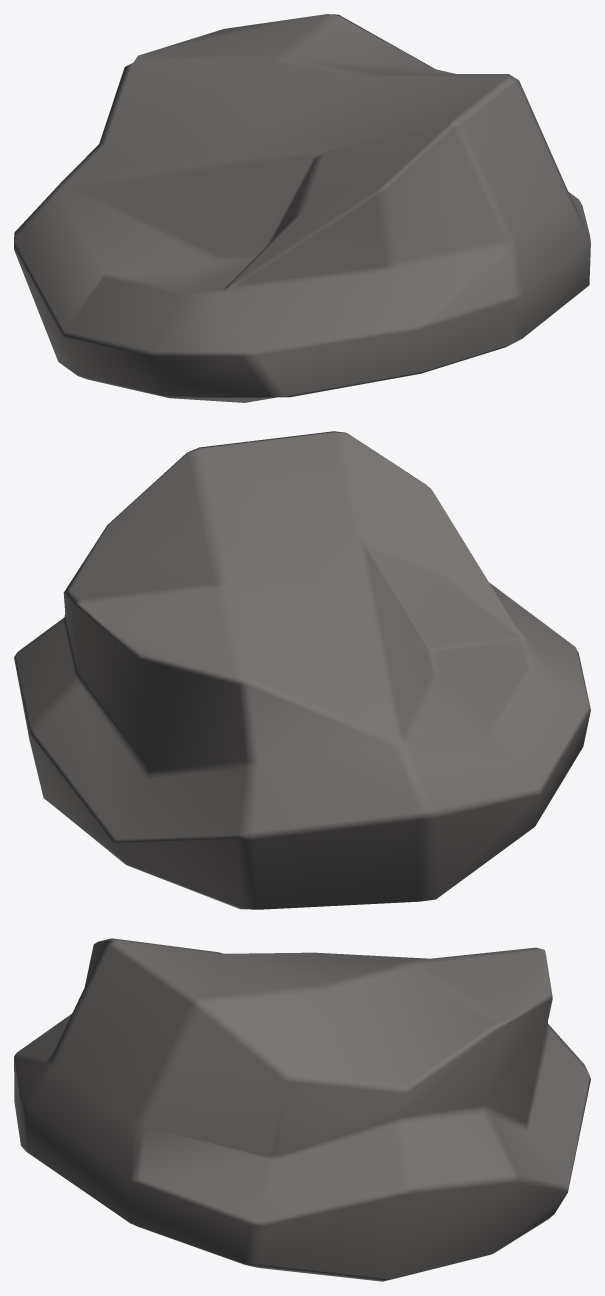
Rendered from Asteroid1.glb.
3 views of the same model, one above another, from view 1: azimuth 30°, elevation 25°; view 2: azimuth 150°, elevation 25°; view 3: azimuth 270°, elevation 25° (orthographic). The views are drawn at different scales.
Parts seen in each view (by area): view 1: Аsteroid_01; view 2: Аsteroid_01; view 3: Аsteroid_01.
Part boxes in pixels (x1,y1,x2,y2): Аsteroid_01: (14, 14, 590, 402); Аsteroid_01: (14, 431, 590, 909); Аsteroid_01: (14, 938, 590, 1281).
Size of the model in its own units: 10.3 by 6.01 by 10.17.
1 material, 1 textured.
